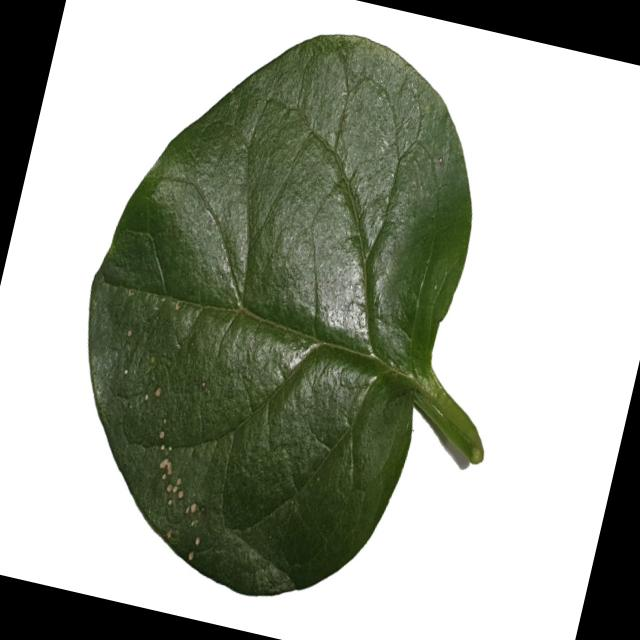Medicinal-Basale: (29, 0, 571, 640)
